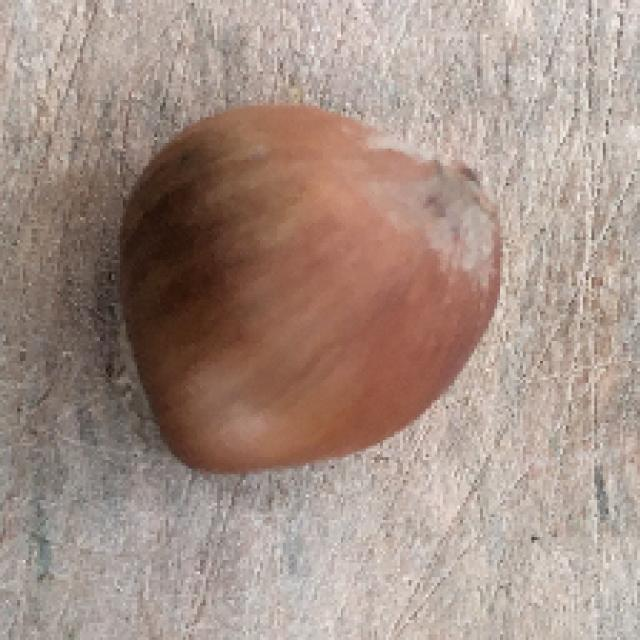qualityHazelnut: (106, 102, 508, 478)
